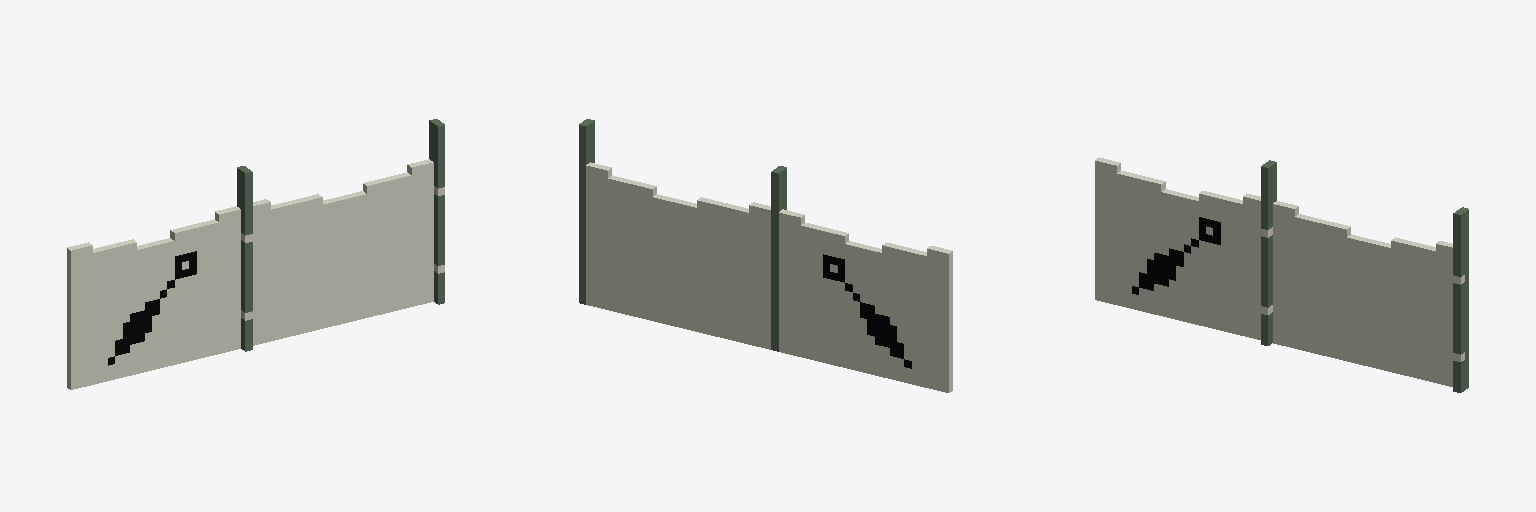
3 views of the same model, side by side, from view 1: azimuth 30°, elevation 25°; view 2: azimuth 150°, elevation 25°; view 3: azimuth 330°, elevation 25° (orthographic).
Parts seen in each view (by area): view 1: object 1; view 2: object 1; view 3: object 1.
Boxes of the visible parts, box(x1,y1,x2,y2) form: object 1: box(67, 119, 444, 389); object 1: box(579, 119, 952, 392); object 1: box(1095, 157, 1468, 392).
Bounding box in the file's own units: 5 × 2.3 × 0.2.
Materials: 1 (1 with a texture image).